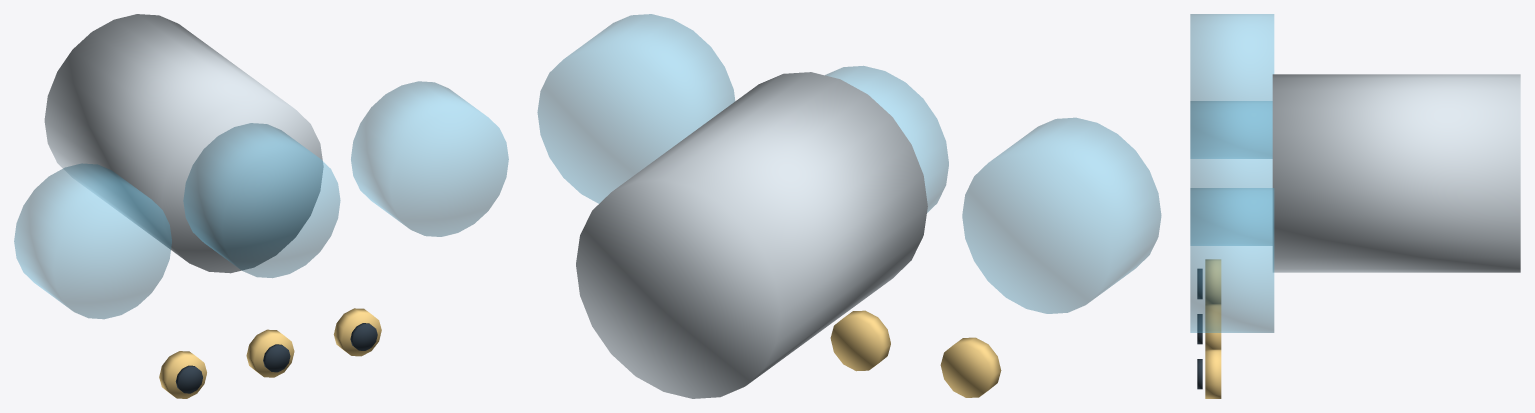
Rendered from 28_L90_Aurora1AttitudeAndNavigationSuite.glb.
The picture shows the model from 3 angles, left to right: view 1: azimuth 30°, elevation 25°; view 2: azimuth 150°, elevation 25°; view 3: azimuth 270°, elevation 25°; orthographic projection. The views are drawn at different scales.
Visible parts, largest first — view 1: L90_Aurora1AttitudeAndNavigat_Part_0001, L90_Aurora1AttitudeAndNavigat_Part_0000, L90_Aurora1AttitudeAndNavigat_Part_0006, L90_Aurora1AttitudeAndNavigat_Part_0004, L90_Aurora1AttitudeAndNavigat_Part_0002, L90_Aurora1AttitudeAndNavigat_Part_0003, L90_Aurora1AttitudeAndNavigat_Part_0005, L90_Aurora1AttitudeAndNavigat_Part_0007; view 2: L90_Aurora1AttitudeAndNavigat_Part_0000, L90_Aurora1AttitudeAndNavigat_Part_0001, L90_Aurora1AttitudeAndNavigat_Part_0002, L90_Aurora1AttitudeAndNavigat_Part_0004; view 3: L90_Aurora1AttitudeAndNavigat_Part_0000, L90_Aurora1AttitudeAndNavigat_Part_0001, L90_Aurora1AttitudeAndNavigat_Part_0006, L90_Aurora1AttitudeAndNavigat_Part_0004, L90_Aurora1AttitudeAndNavigat_Part_0002.
Boxes of the visible parts, x1,y1,x2,y2 form: L90_Aurora1AttitudeAndNavigat_Part_0001: [14, 81, 508, 319]; L90_Aurora1AttitudeAndNavigat_Part_0000: [44, 14, 323, 273]; L90_Aurora1AttitudeAndNavigat_Part_0006: [333, 308, 381, 356]; L90_Aurora1AttitudeAndNavigat_Part_0004: [246, 329, 294, 377]; L90_Aurora1AttitudeAndNavigat_Part_0002: [159, 351, 206, 398]; L90_Aurora1AttitudeAndNavigat_Part_0003: [175, 365, 202, 393]; L90_Aurora1AttitudeAndNavigat_Part_0005: [263, 344, 290, 372]; L90_Aurora1AttitudeAndNavigat_Part_0007: [350, 323, 377, 350]; L90_Aurora1AttitudeAndNavigat_Part_0000: [576, 72, 927, 398]; L90_Aurora1AttitudeAndNavigat_Part_0001: [537, 14, 1161, 313]; L90_Aurora1AttitudeAndNavigat_Part_0002: [940, 337, 1001, 397]; L90_Aurora1AttitudeAndNavigat_Part_0004: [830, 310, 890, 371]; L90_Aurora1AttitudeAndNavigat_Part_0000: [1272, 74, 1520, 272]; L90_Aurora1AttitudeAndNavigat_Part_0001: [1190, 14, 1274, 332]; L90_Aurora1AttitudeAndNavigat_Part_0006: [1205, 349, 1221, 398]; L90_Aurora1AttitudeAndNavigat_Part_0004: [1205, 304, 1221, 349]; L90_Aurora1AttitudeAndNavigat_Part_0002: [1205, 259, 1221, 304].
Bounding box in the file's own units: 1.46 × 0.7724 × 0.865.
